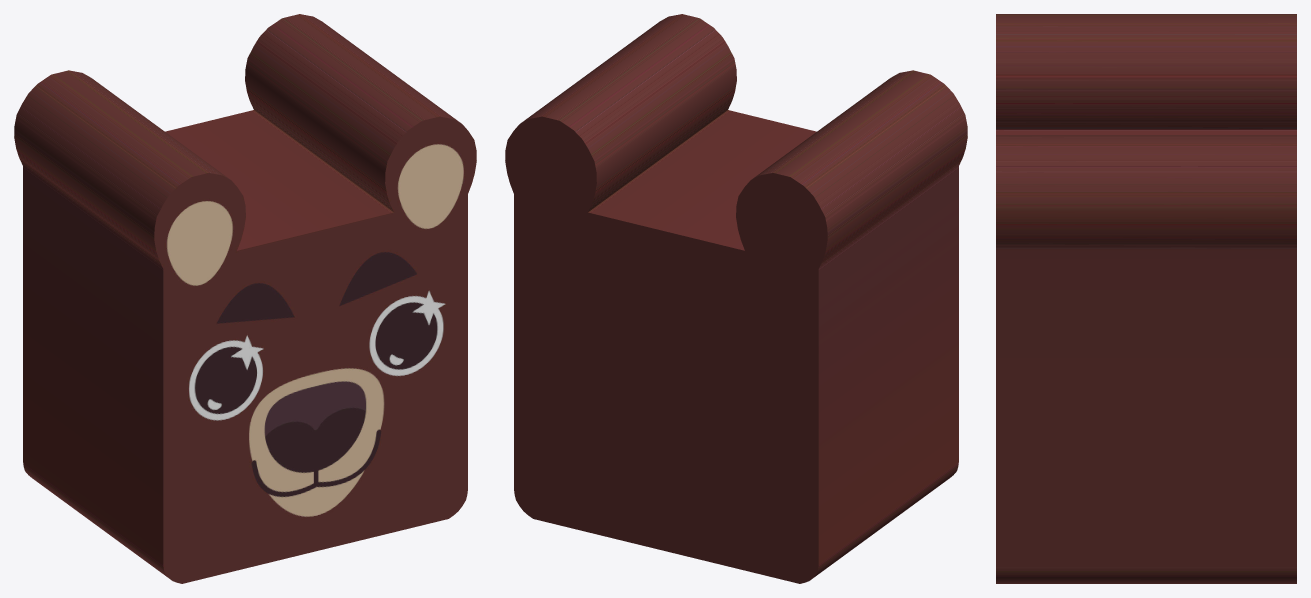
The model's file is Bear.fbx.
3 renders of one model, left to right at view 1: azimuth 30°, elevation 25°; view 2: azimuth 150°, elevation 25°; view 3: azimuth 270°, elevation 25°, orthographic. The views are drawn at different scales.
Visible parts, largest first — view 1: bear; view 2: bear; view 3: bear.
Boxes of the visible parts, x1,y1,x2,y2 form: bear: [14, 14, 476, 583]; bear: [505, 14, 967, 583]; bear: [996, 14, 1296, 583].
Size of the model in its own units: 5.67 by 6.8 by 4.27.
Materials: 1 (1 with a texture image).
